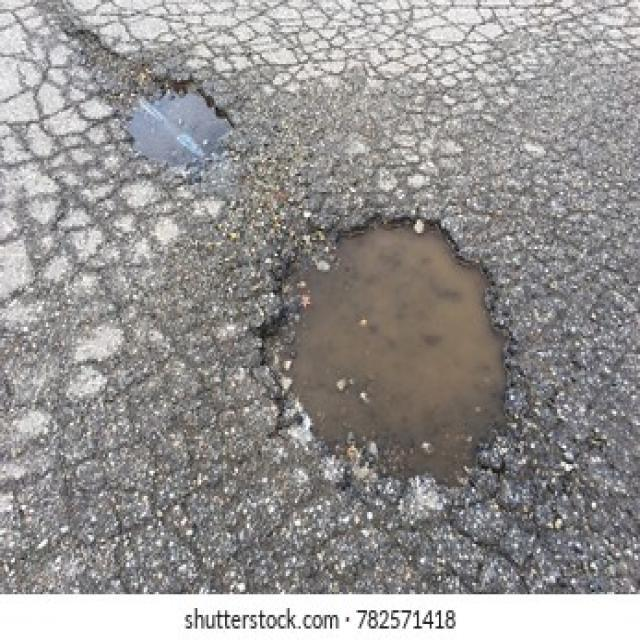Pothole: (250, 208, 516, 489), (66, 25, 232, 174)
